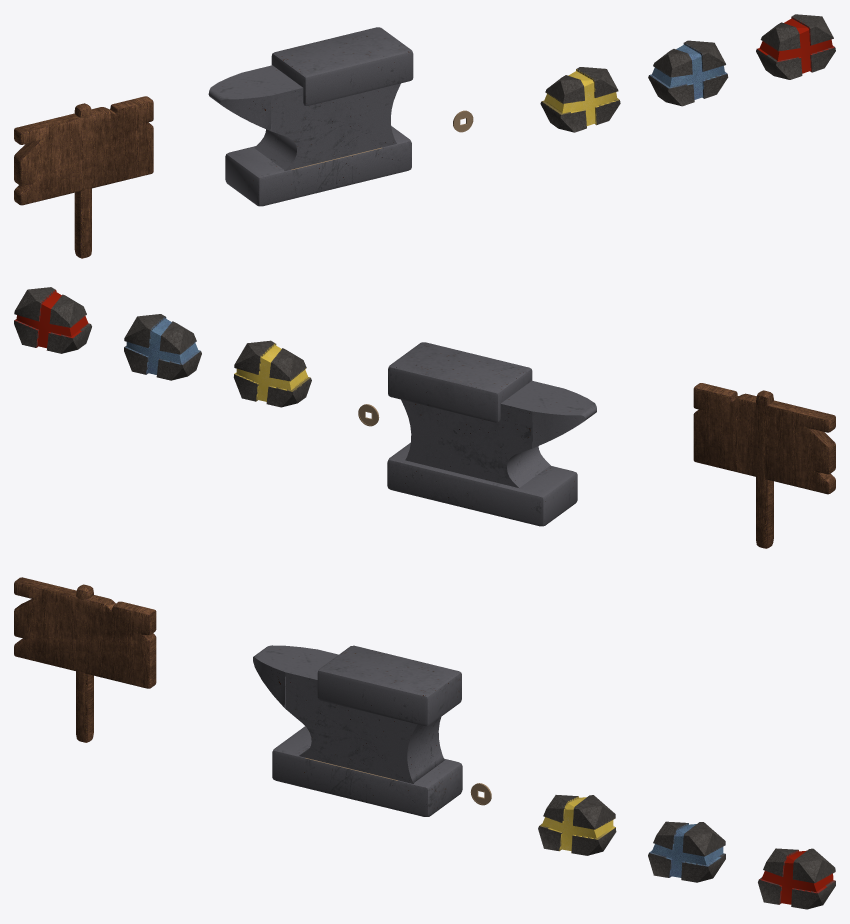
Rendered from 돌멩이 3개 텍스처 작업.fbx.
3 renders of one model, top to bottom at view 1: azimuth 30°, elevation 25°; view 2: azimuth 150°, elevation 25°; view 3: azimuth 330°, elevation 25°, orthographic. The views are drawn at different scales.
Visible parts, largest first — view 1: Line015, Box001, Line012, Line016, Line017; view 2: Line015, Box001, Line017, Line012, Line016; view 3: Line015, Box001, Line012, Line016, Line017.
Boxes of the visible parts, bbox=[...] form: Line015: bbox=[208, 27, 413, 206]; Box001: bbox=[14, 96, 153, 258]; Line012: bbox=[756, 14, 835, 79]; Line016: bbox=[648, 40, 728, 106]; Line017: bbox=[540, 67, 620, 132]; Line015: bbox=[387, 342, 596, 526]; Box001: bbox=[693, 383, 835, 548]; Line017: bbox=[233, 340, 311, 407]; Line012: bbox=[14, 287, 91, 353]; Line016: bbox=[124, 314, 201, 380]; Line015: bbox=[253, 645, 462, 816]; Box001: bbox=[14, 577, 156, 742]; Line012: bbox=[758, 848, 835, 909]; Line016: bbox=[648, 821, 725, 882]; Line017: bbox=[538, 795, 616, 855].
Bounding box in the file's own units: 481 × 87.17 × 61.06.
Materials: 4 (4 with a texture image).
